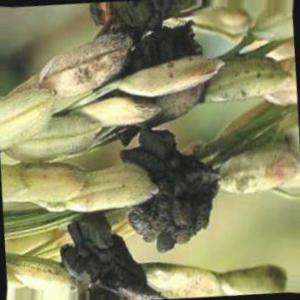Leaf_Scald: (138, 138, 206, 249), (66, 222, 139, 300), (124, 19, 195, 75), (89, 0, 188, 10)
